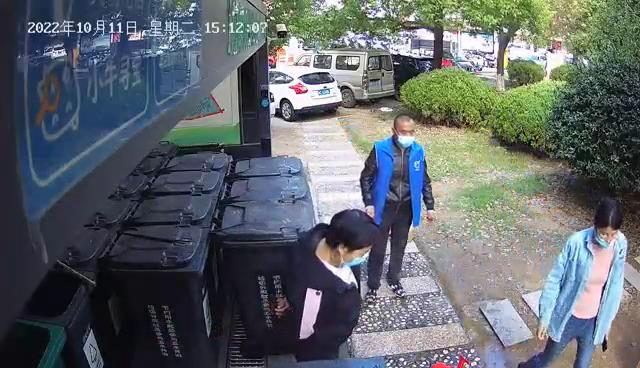person: (273, 208, 380, 362)
worker: (516, 195, 629, 368), (359, 112, 437, 304)
